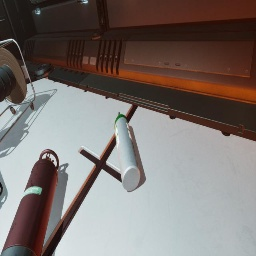0: (114, 112, 140, 191)
FireExtinguisher ]: (0, 181, 3, 196)
NitrogenTank ,: (0, 149, 59, 256)
